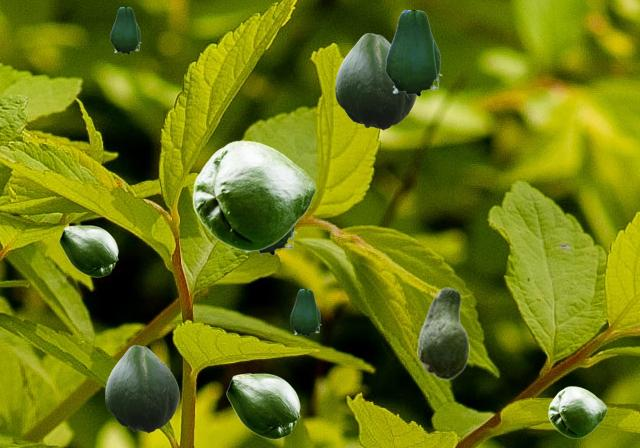sayote: (192, 140, 315, 250), (335, 33, 416, 129), (105, 345, 178, 432), (385, 10, 441, 97), (226, 373, 299, 438), (417, 287, 468, 379), (548, 386, 606, 437), (59, 225, 117, 276), (244, 226, 296, 256), (290, 289, 320, 336), (110, 7, 140, 54)
